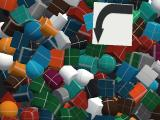Left: (92, 2, 134, 46)
